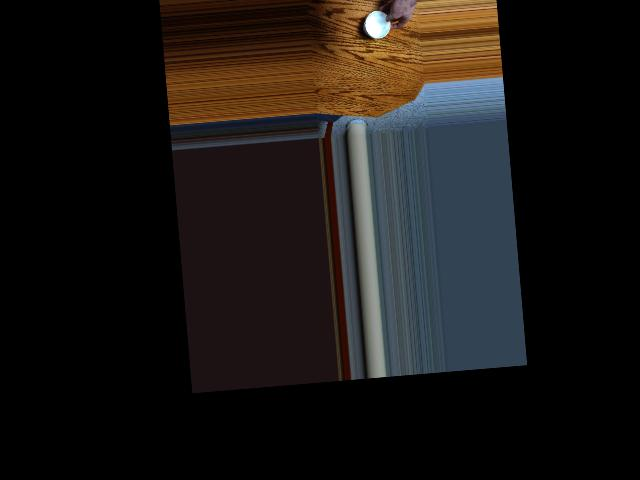cotage: (361, 7, 397, 45)
